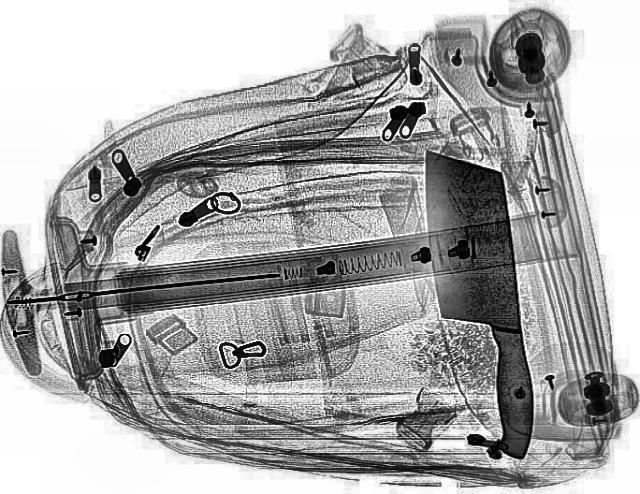Knife: (408, 144, 554, 466)
